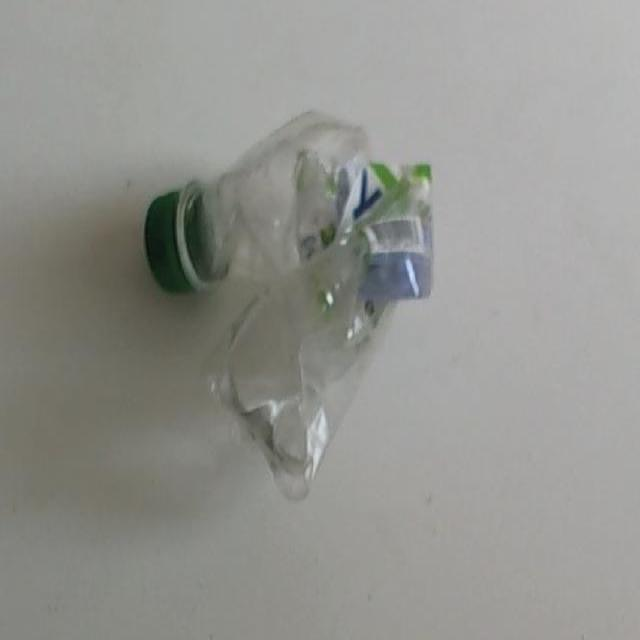defect: (142, 107, 437, 504)
